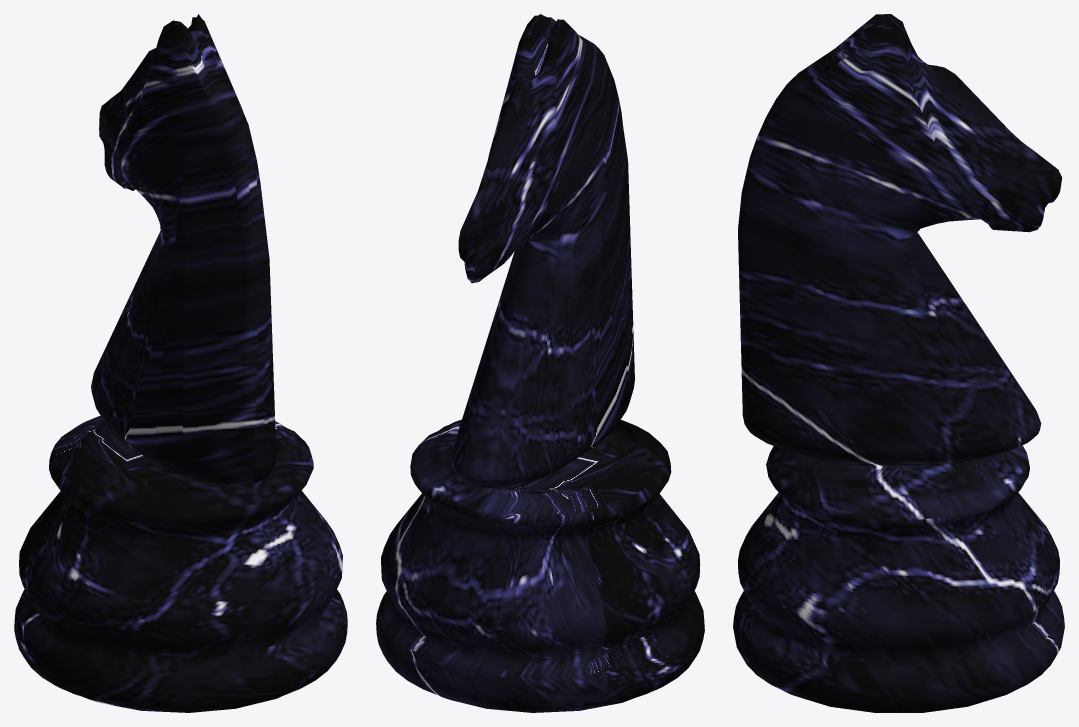
File: black_knight.glb
3 renders of one model, left to right at view 1: azimuth 30°, elevation 25°; view 2: azimuth 150°, elevation 25°; view 3: azimuth 270°, elevation 25°, orthographic.
Parts seen in each view (by area): view 1: Circle.006; view 2: Circle.006; view 3: Circle.006.
Boxes of the visible parts, x1,y1,x2,y2 form: Circle.006: (14, 14, 347, 712); Circle.006: (376, 14, 704, 712); Circle.006: (733, 14, 1064, 712).
Bounding box in the file's own units: 1.33 × 2.8 × 1.33.
1 material, 1 textured.
